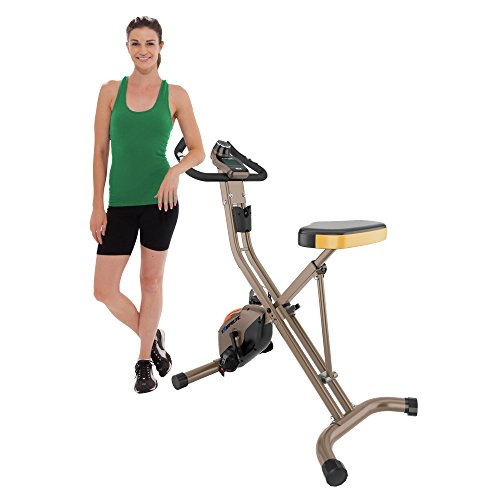gym_bike: (168, 124, 422, 486)
